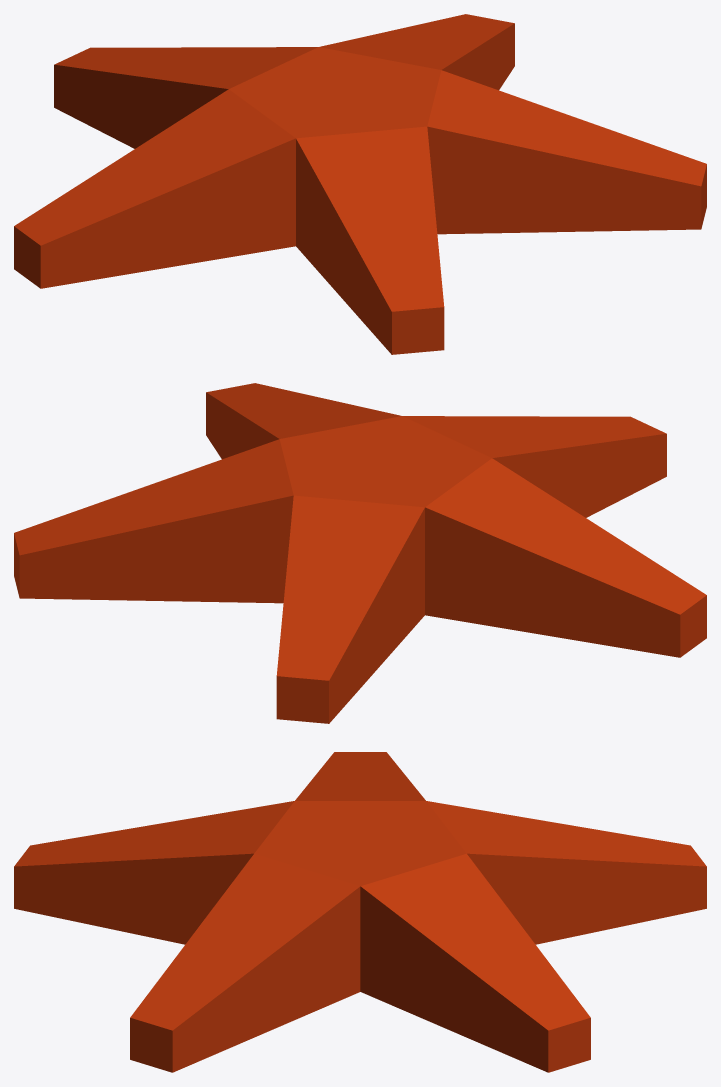
File: Starfish ORANGE.fbx
3 views of the same model, one above another, from view 1: azimuth 30°, elevation 25°; view 2: azimuth 150°, elevation 25°; view 3: azimuth 270°, elevation 25° (orthographic). The views are drawn at different scales.
Parts seen in each view (by area): view 1: Cylinder001; view 2: Cylinder001; view 3: Cylinder001.
Part boxes in pixels (left/top/right/bottom): Cylinder001: left=14, top=14, right=706, bottom=354; Cylinder001: left=14, top=383, right=706, bottom=723; Cylinder001: left=14, top=752, right=706, bottom=1072.
Bounding box in the file's own units: 46.49 × 8.22 × 48.89.
